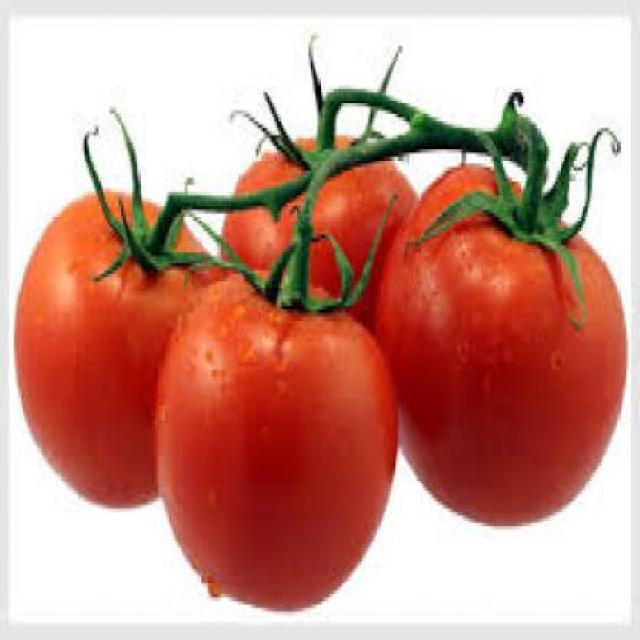BIODEGRADABLE: (375, 160, 631, 526), (156, 264, 402, 611), (16, 188, 210, 508), (219, 127, 427, 330)
